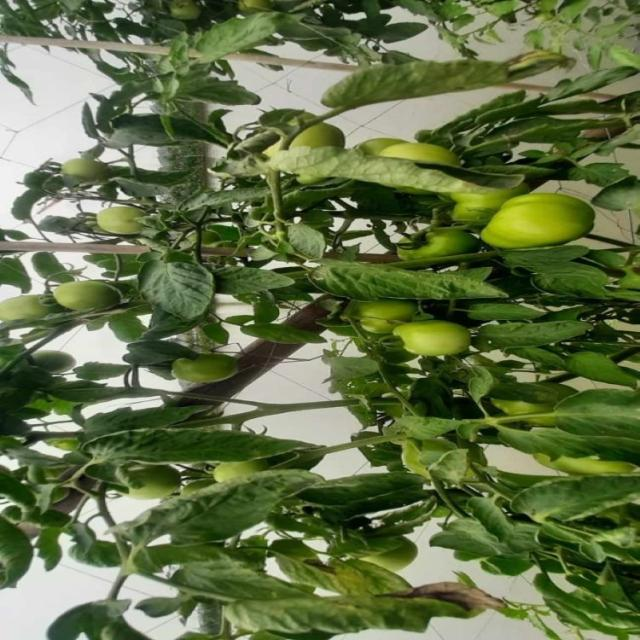tomato: (479, 182, 597, 255), (389, 311, 474, 360), (368, 130, 458, 173), (122, 462, 185, 505), (353, 287, 413, 328), (266, 120, 332, 156), (52, 280, 115, 316), (215, 449, 262, 497), (392, 227, 466, 257), (97, 198, 150, 235), (5, 285, 51, 327), (180, 355, 241, 385), (59, 149, 100, 189)
